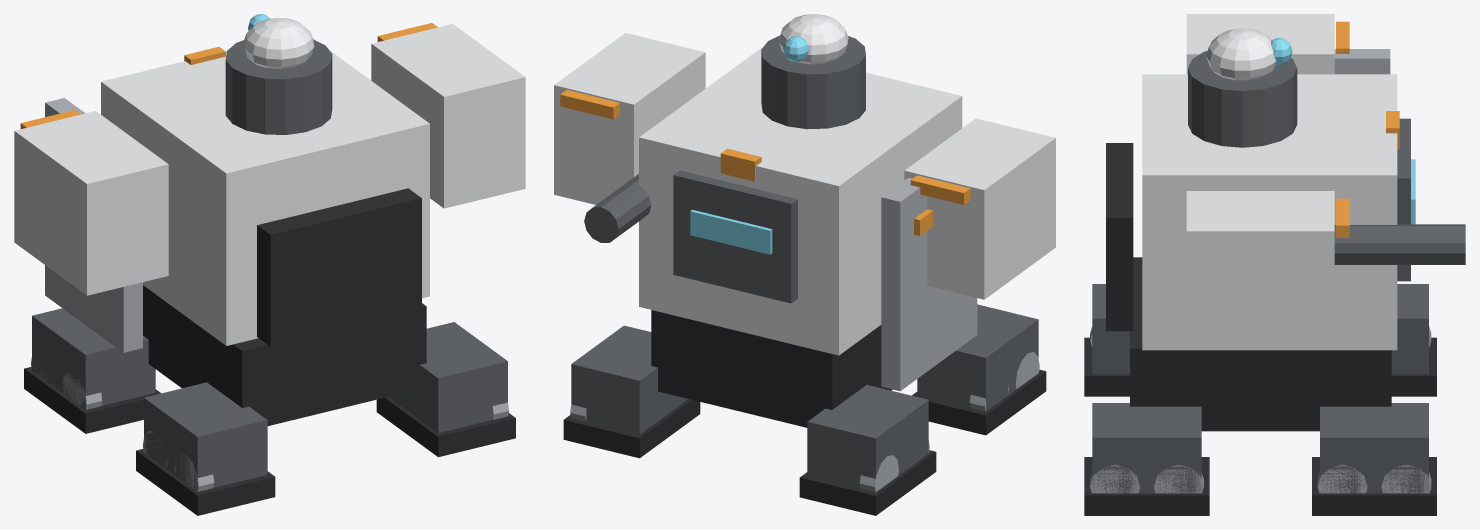
The model's file is SM_Unit_DefenseMech.glb.
The picture shows the model from 3 angles, left to right: view 1: azimuth 30°, elevation 25°; view 2: azimuth 150°, elevation 25°; view 3: azimuth 270°, elevation 25°; orthographic projection. The views are drawn at different scales.
Visible parts, largest first — view 1: SM_Unit_DefenseMech; view 2: SM_Unit_DefenseMech; view 3: SM_Unit_DefenseMech.
Boxes of the visible parts, box(x1,y1,x2,y2) form: SM_Unit_DefenseMech: box(14, 14, 525, 515); SM_Unit_DefenseMech: box(554, 14, 1055, 515); SM_Unit_DefenseMech: box(1084, 14, 1465, 515).
Bounding box in the file's own units: 2.26 × 1.96 × 1.67.
